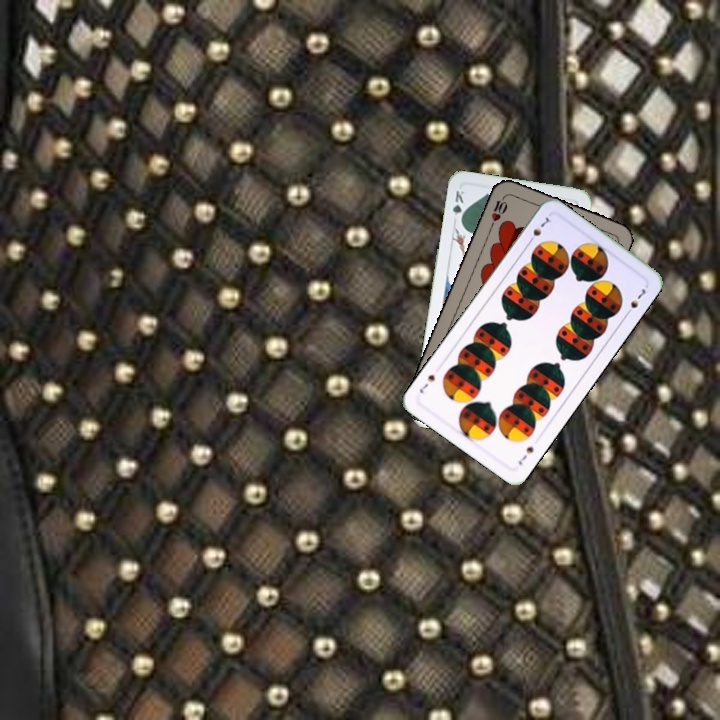GK: (449, 186, 467, 226)
H10: (487, 191, 510, 230)
S7: (524, 213, 554, 247), (514, 442, 536, 468)
